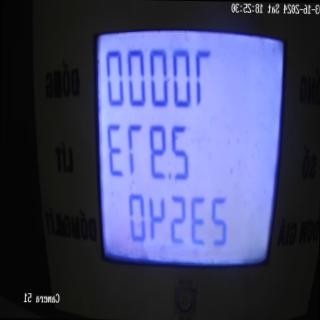screen: (85, 3, 291, 298)
